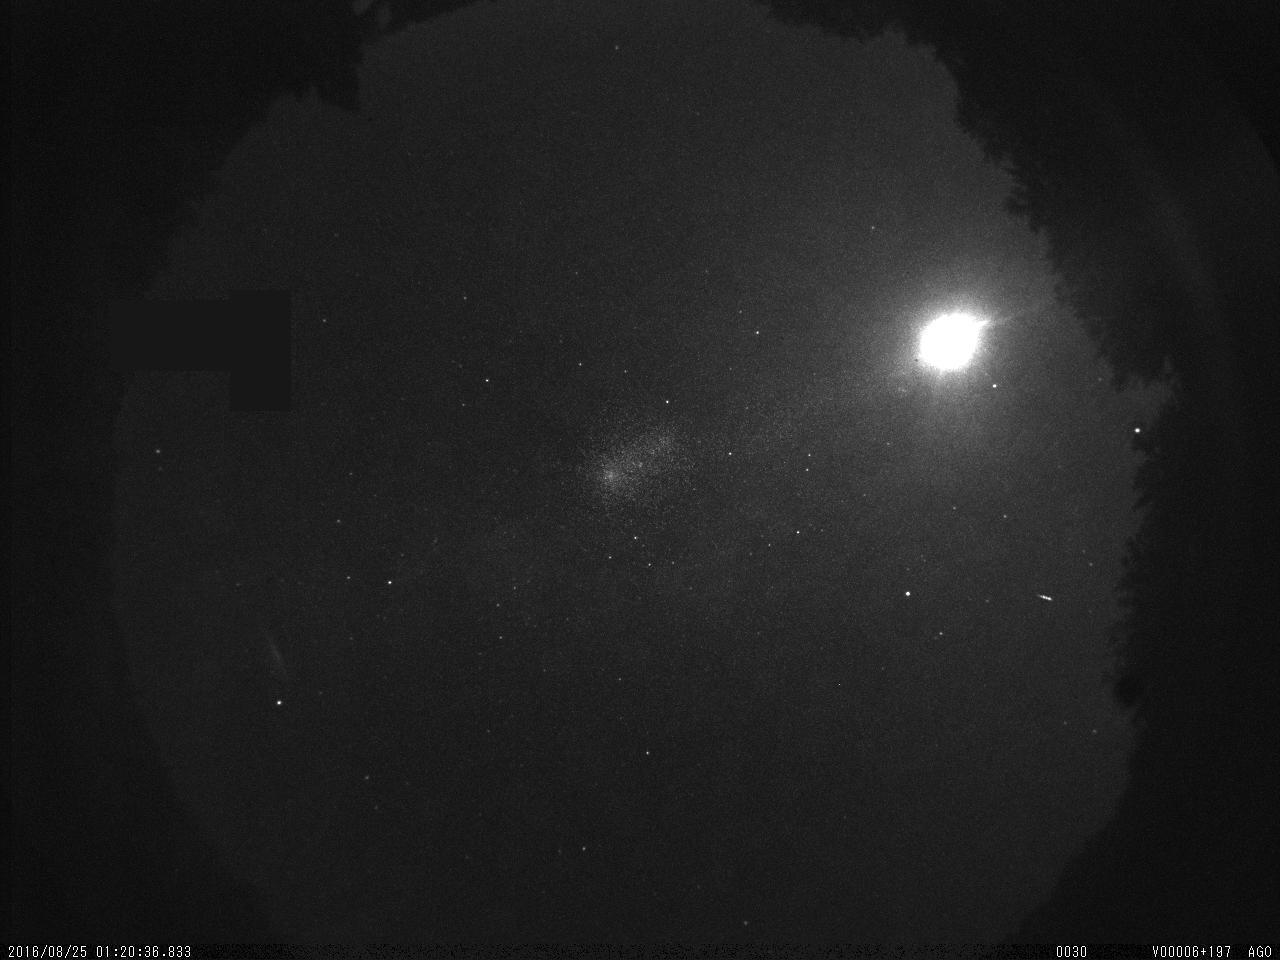Meteor: (1036, 588, 1058, 613)
